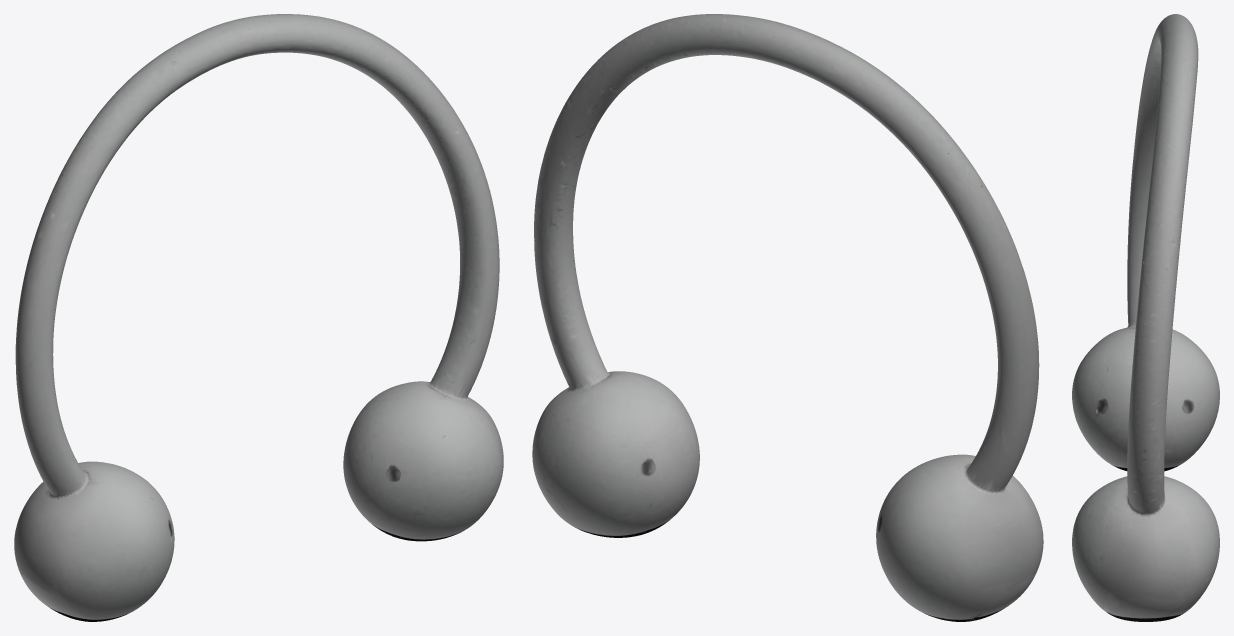
File: horseshoe.glb
3 renders of one model, left to right at view 1: azimuth 30°, elevation 25°; view 2: azimuth 150°, elevation 25°; view 3: azimuth 270°, elevation 25°, orthographic. The views are drawn at different scales.
Parts seen in each view (by area): view 1: Mesh_0; view 2: Mesh_0; view 3: Mesh_0.
Part boxes in pixels (<box>): Mesh_0: <box>14,14,503,621</box>; Mesh_0: <box>532,14,1043,621</box>; Mesh_0: <box>1072,14,1219,621</box>.
Bounding box in the file's own units: 1.78 × 1.91 × 0.51.
Materials: 1 (1 with a texture image).
